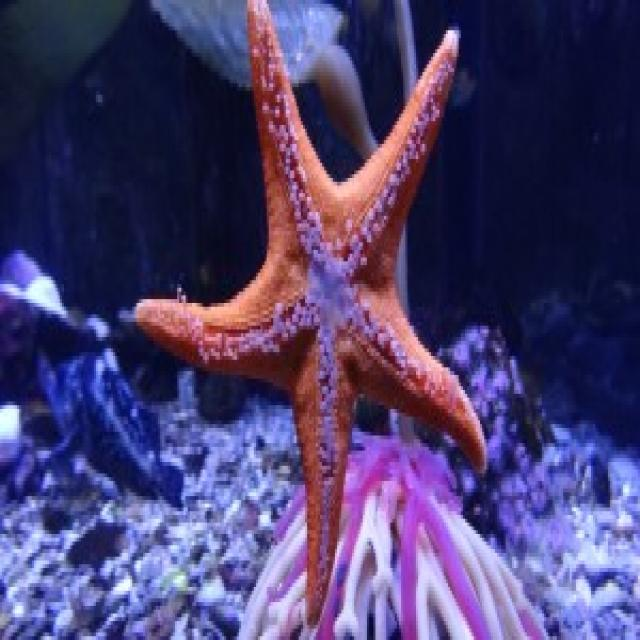Starfish: (114, 1, 495, 622)
